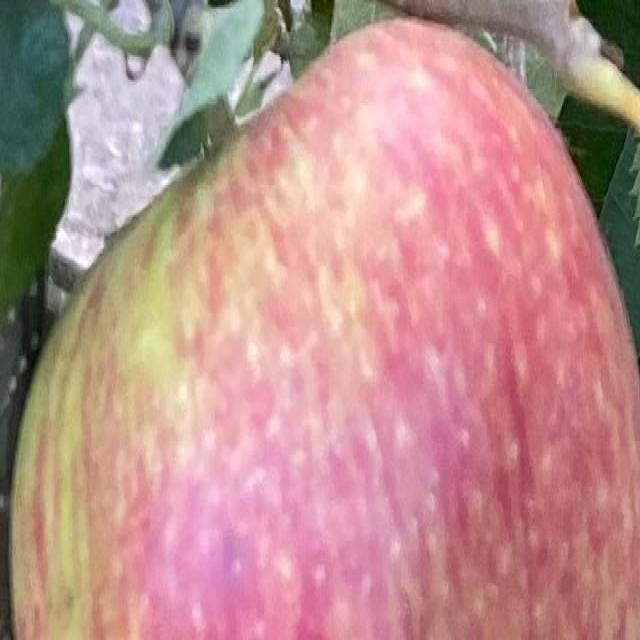Rotten Apple: (6, 19, 640, 640)
